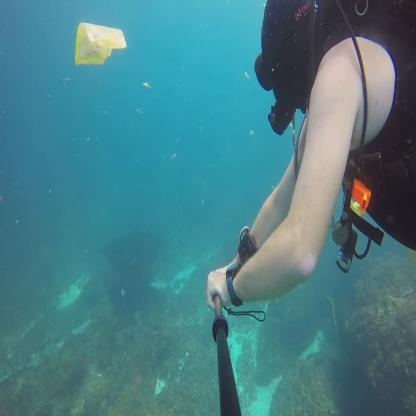Rác: (70, 16, 136, 77)
